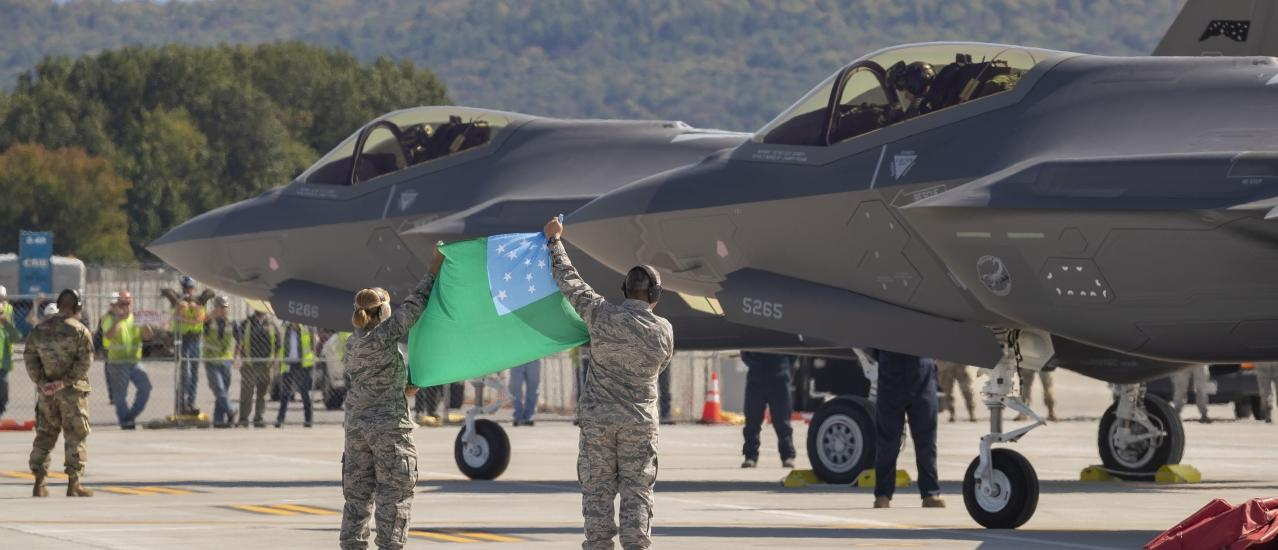F-35 Lightning: (552, 30, 1278, 532), (107, 64, 703, 405)
